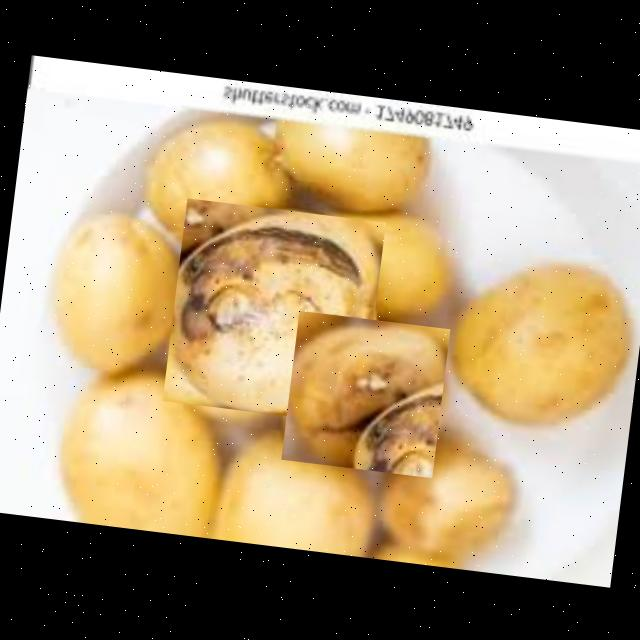Diseased-fungal potato: (162, 196, 384, 424), (280, 309, 449, 476)
